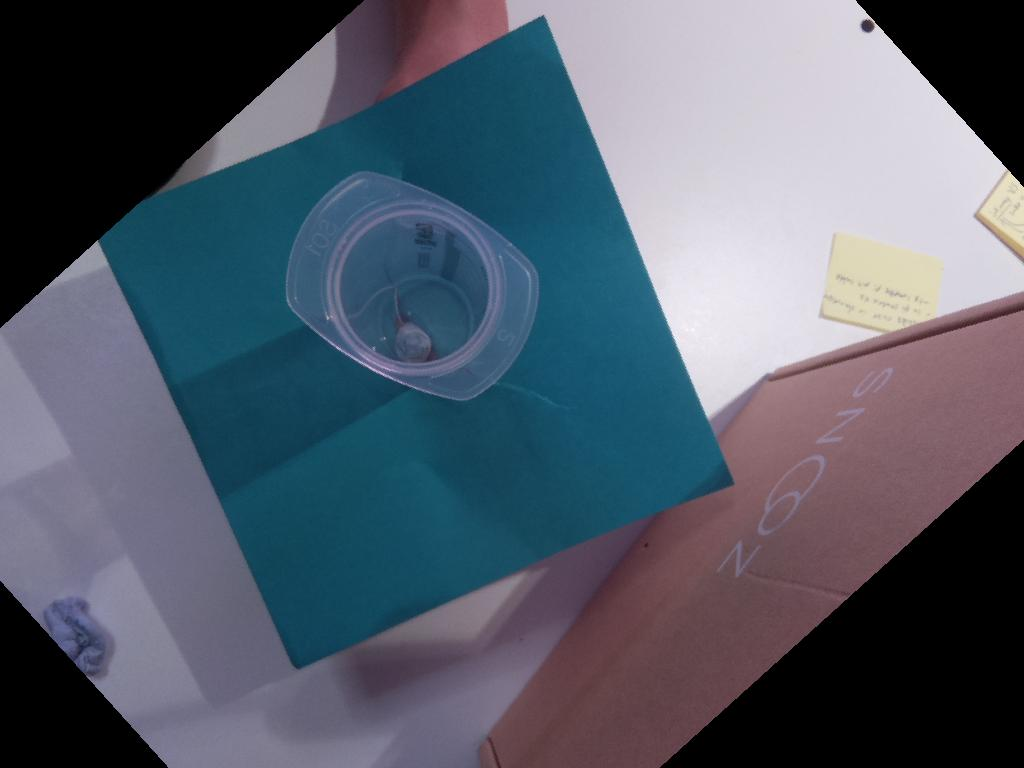clean: (284, 170, 543, 402)
